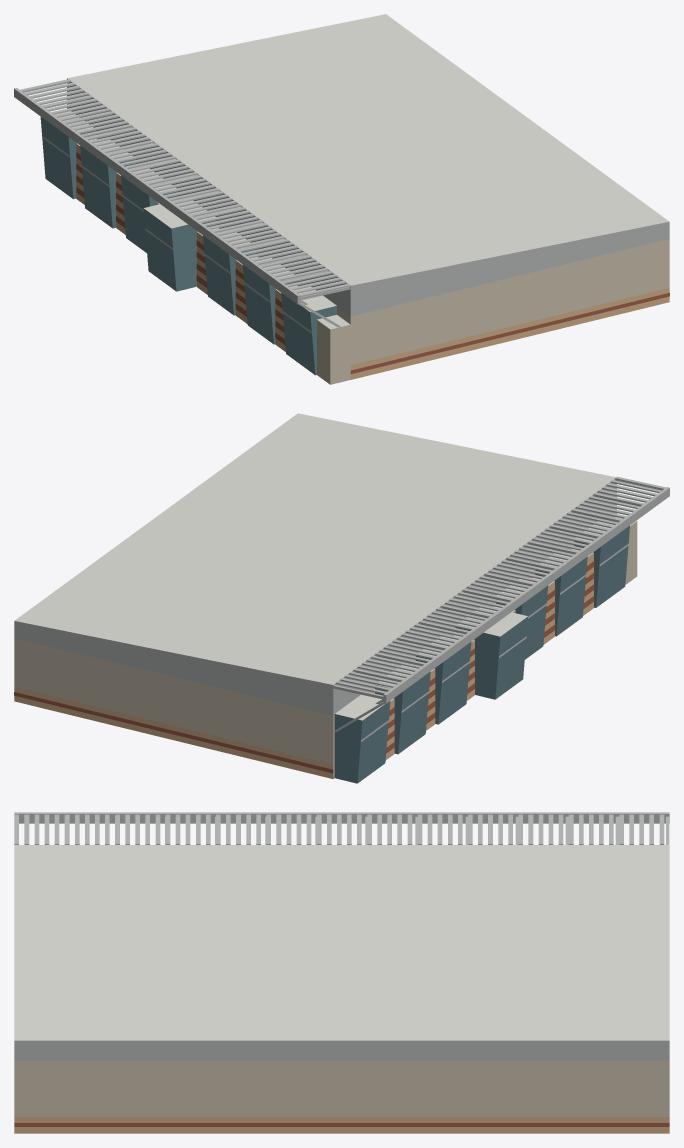
Rendered from phx-convention-center-north.glb.
The picture shows the model from 3 angles, top to bottom: view 1: azimuth 30°, elevation 25°; view 2: azimuth 150°, elevation 25°; view 3: azimuth 270°, elevation 25°; orthographic projection. The views are drawn at different scales.
Parts seen in each view (by area): view 1: Phoenix Convention Center North Building; view 2: Phoenix Convention Center North Building; view 3: Phoenix Convention Center North Building.
Part boxes in pixels (bbox=[...]): Phoenix Convention Center North Building: bbox=[14, 14, 669, 384]; Phoenix Convention Center North Building: bbox=[14, 413, 669, 783]; Phoenix Convention Center North Building: bbox=[14, 812, 669, 1133].
Size of the model in its own units: 148 by 36.7 by 195.
